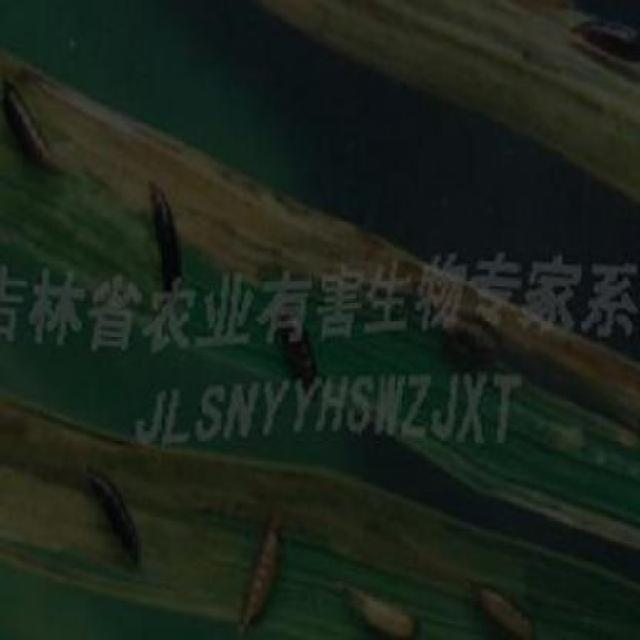whorl-maggot: (80, 459, 149, 581), (230, 502, 288, 638), (2, 68, 64, 189), (336, 569, 422, 640), (465, 569, 541, 640), (140, 174, 192, 268), (567, 3, 640, 64)
